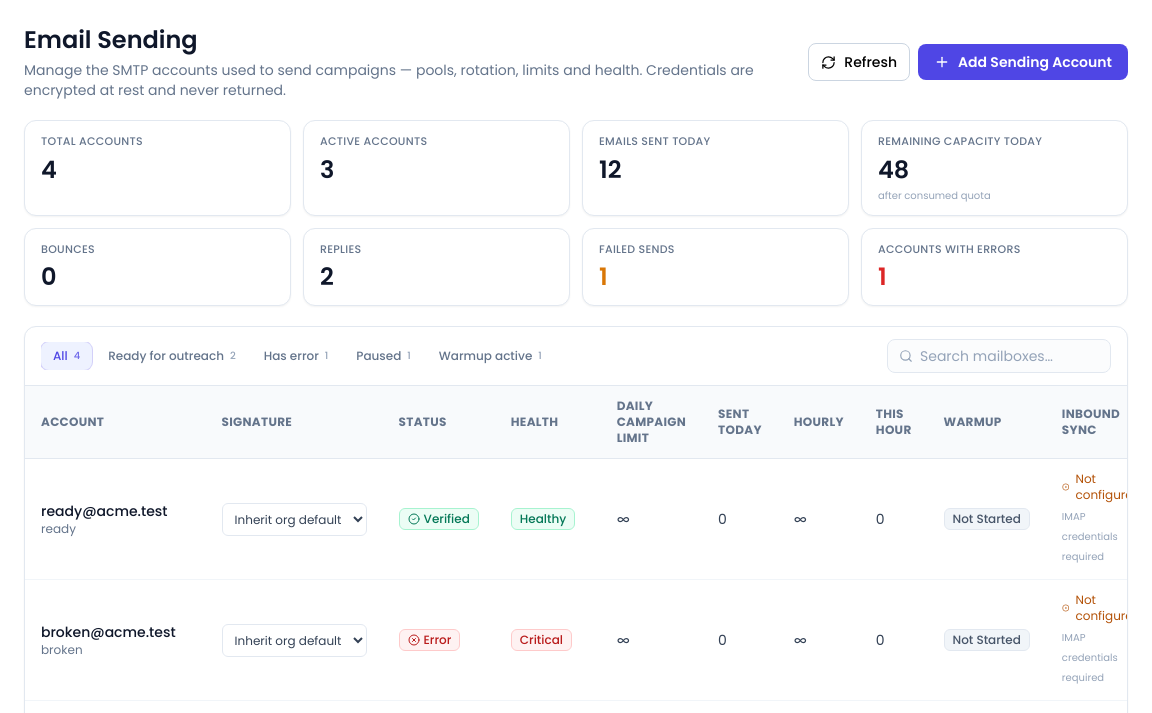
Test: EmailSendingSettingsPage — status tabs + search › combines tab + search (search applies within the selected tab)
Expected: the text "ready@acme.test" is shown, [41, 500, 168, 520]
Step 1. Click the tab "Paused 1" → [384, 356], box [344, 342, 423, 370]
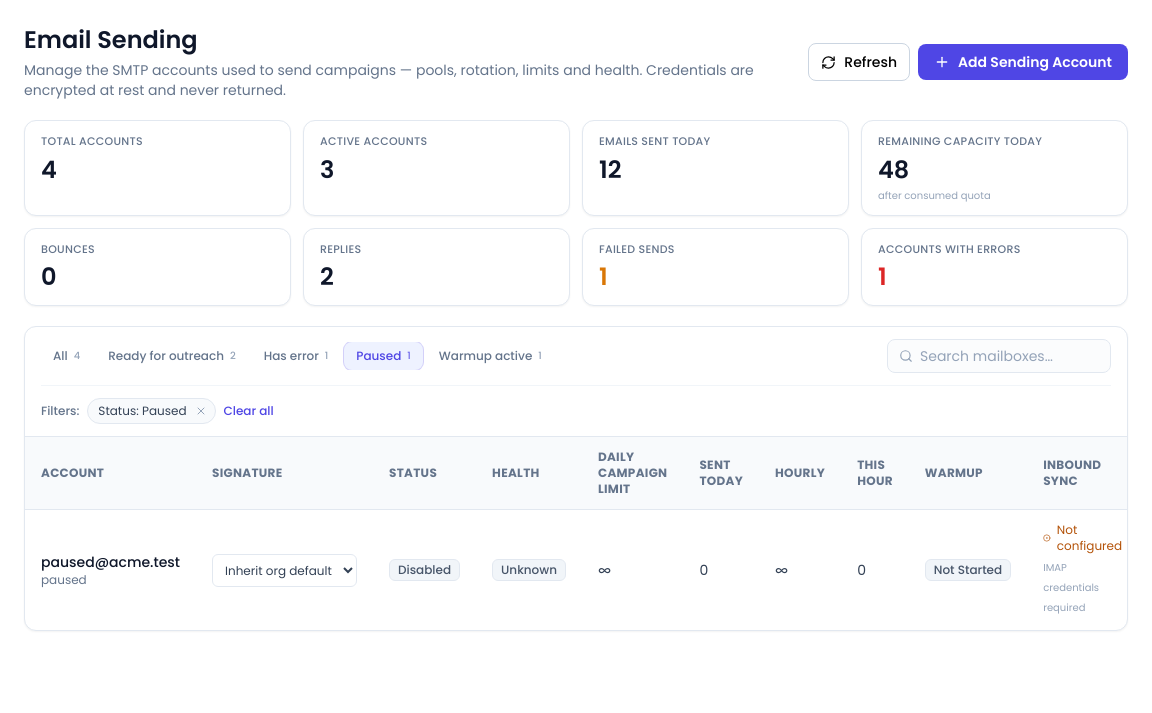
Expected: the text "paused@acme.test" is shown, [41, 552, 180, 572]
# searching an address outside the Paused tab yields the empty state
Step 2. Type "ready@" into the search field named "Search sending accounts" → [999, 356], box [887, 339, 1111, 373]
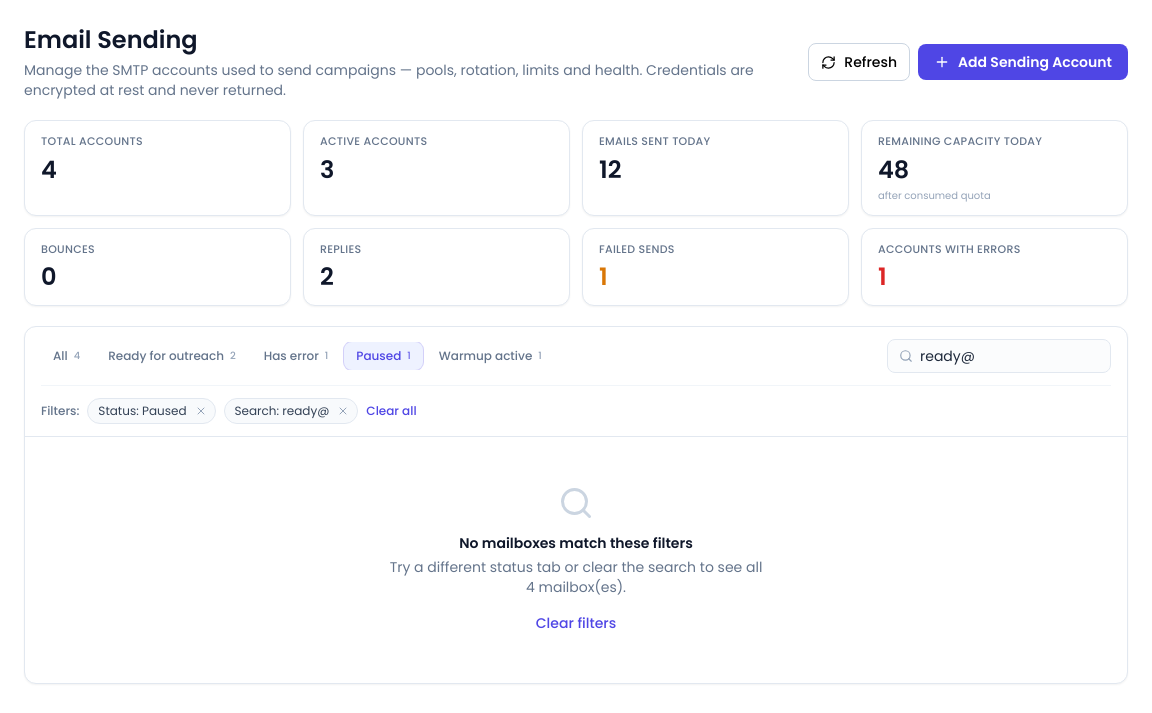
Expected: the button "ready@acme.test" is not shown
Expected: the element with test id "accounts-empty-filter" is shown, [390, 485, 762, 633]
